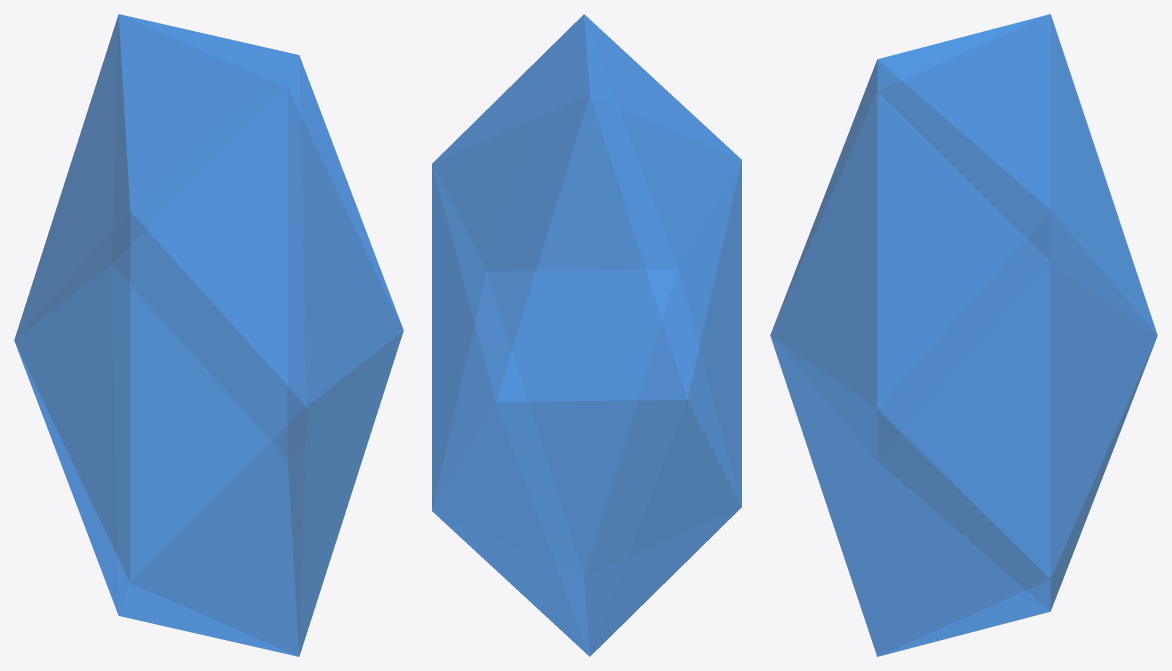
The model's file is BlueCrystal.fbx.
3 views of the same model, side by side, from view 1: azimuth 30°, elevation 25°; view 2: azimuth 150°, elevation 25°; view 3: azimuth 270°, elevation 25° (orthographic). The views are drawn at different scales.
Visible parts, largest first — view 1: pPlatonic1; view 2: pPlatonic1; view 3: pPlatonic1.
Part boxes in pixels (bbox=[...]): pPlatonic1: bbox=[14, 14, 403, 656]; pPlatonic1: bbox=[432, 14, 741, 656]; pPlatonic1: bbox=[770, 14, 1157, 656].
Size of the model in its own units: 8.94 by 17.01 by 10.
